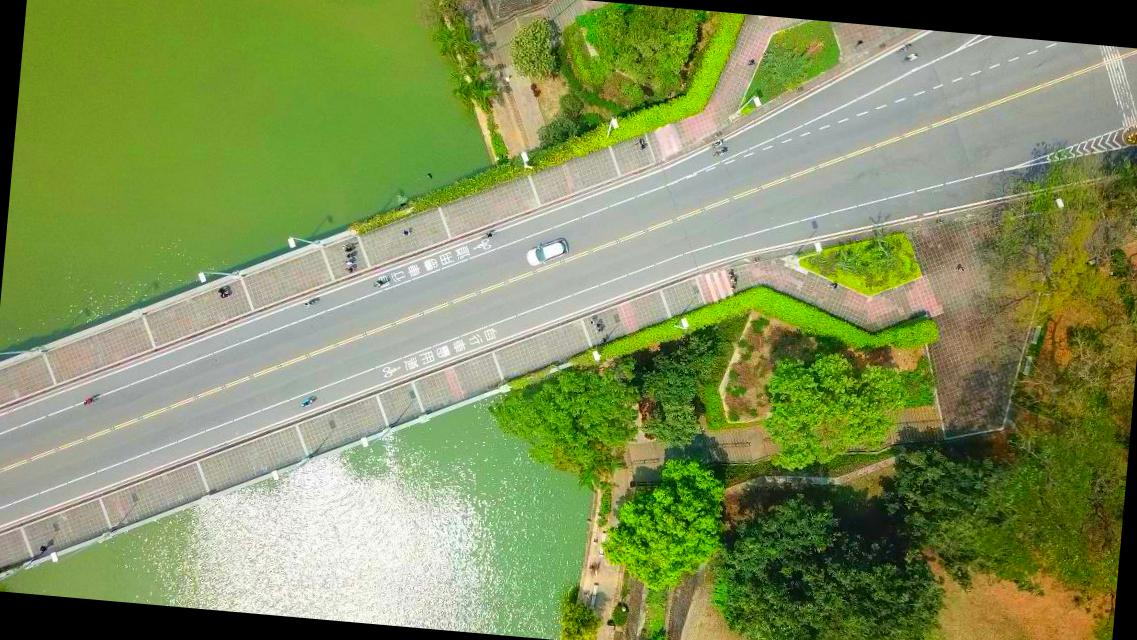vehicle: (524, 235, 570, 270)
